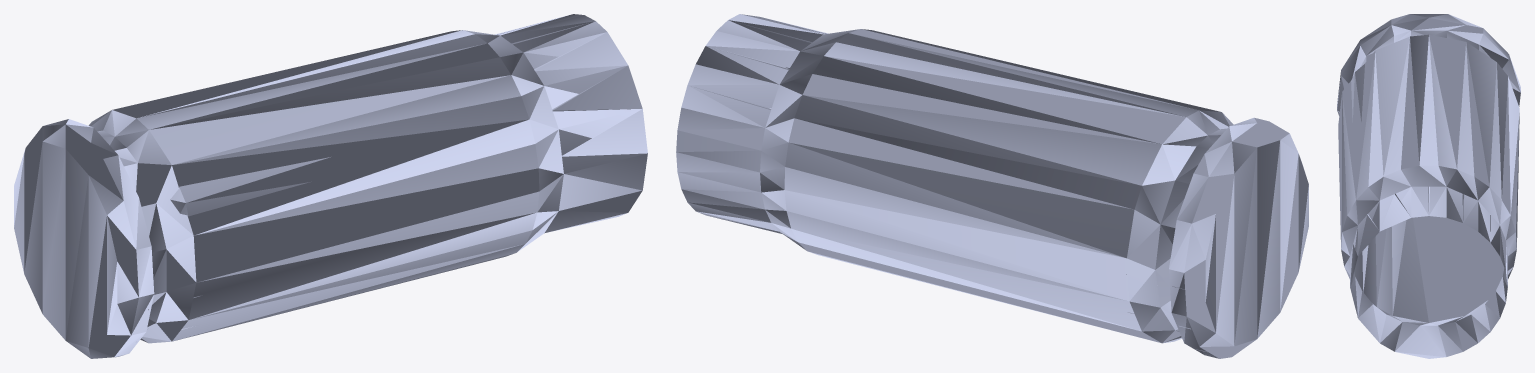
The model's file is 7.62Tokarev.fbx.
3 views of the same model, side by side, from view 1: azimuth 30°, elevation 25°; view 2: azimuth 150°, elevation 25°; view 3: azimuth 270°, elevation 25° (orthographic). The views are drawn at different scales.
Visible parts, largest first — view 1: Cut-Extrude1; view 2: Cut-Extrude1; view 3: Cut-Extrude1.
Boxes of the visible parts, <box> form: Cut-Extrude1: <box>14,14,647,358</box>; Cut-Extrude1: <box>676,14,1308,358</box>; Cut-Extrude1: <box>1337,14,1520,358</box>.
Size of the model in its own units: 0.9843 by 0.3917 by 0.3896.
